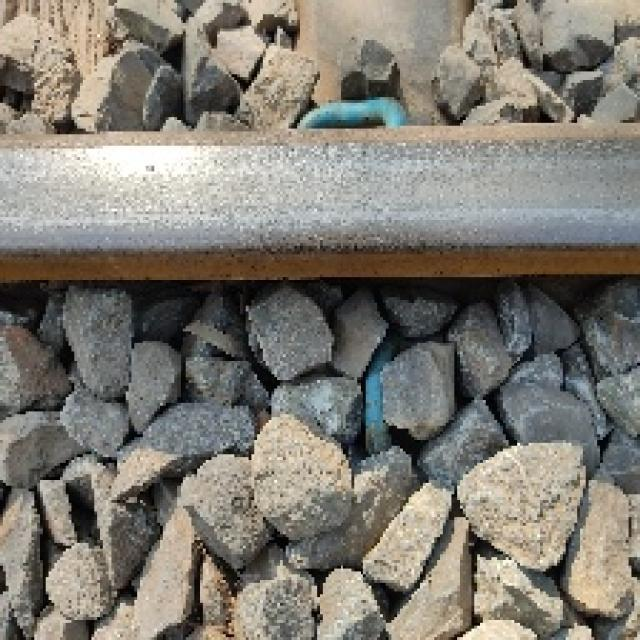Good Fasteners: (300, 97, 406, 126)
